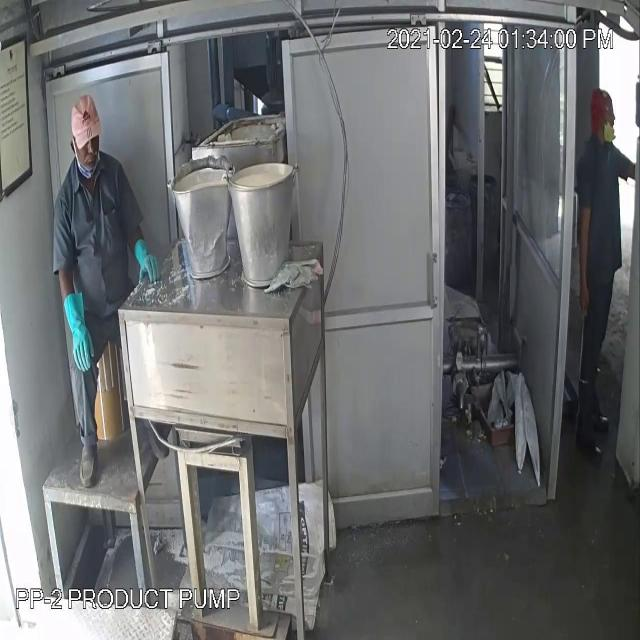no-helmet: (66, 90, 110, 156)
